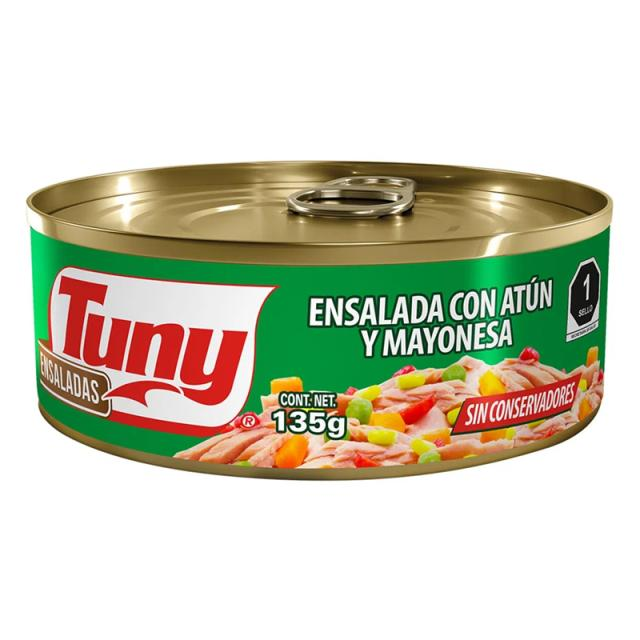Lata: (19, 164, 614, 473)
